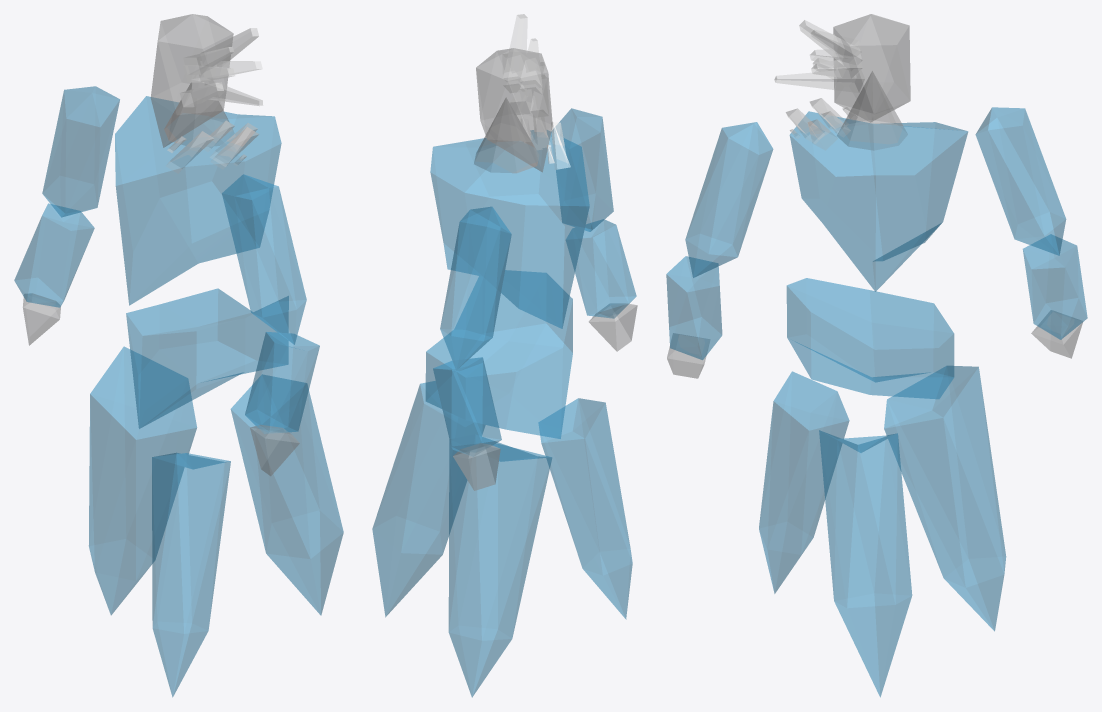
Rendered from ghostChargingLunge2.obj.
3 renders of one model, left to right at view 1: azimuth 30°, elevation 25°; view 2: azimuth 150°, elevation 25°; view 3: azimuth 270°, elevation 25°, orthographic. The views are drawn at different scales.
Visible parts, largest first — view 1: Cube.001_Cube.006, Icosphere.017, Icosphere.016, Cube_Cube.006, Icosphere.015, Icosphere.005_Icosphere.005, Icosphere.003_Icosphere.006, Icosphere.007_Icosphere.005, Icosphere.006_Icosphere.005, Icosphere.008_Icosphere.005, Cone_Cone.006, Cube.002_Cube.006 (+8 smaller); view 2: Cube.001_Cube.006, Cube_Cube.006, Icosphere.017, Icosphere.016, Icosphere.015, Icosphere.007_Icosphere.005, Icosphere.003_Icosphere.006, Icosphere.005_Icosphere.005, Icosphere.006_Icosphere.005, Icosphere.008_Icosphere.005, Cone_Cone.006, Cube.003_Cube.006 (+6 smaller); view 3: Cube.001_Cube.006, Icosphere.017, Icosphere.016, Cube_Cube.006, Icosphere.015, Icosphere.005_Icosphere.005, Icosphere.007_Icosphere.005, Icosphere.003_Icosphere.006, Icosphere.008_Icosphere.005, Icosphere.006_Icosphere.005, Cone_Cone.006, Cube.003_Cube.006 (+4 smaller).
Boxes of the visible parts, x1=… form: Cube.001_Cube.006: x1=115, y1=96, x2=281, y2=305; Icosphere.017: x1=89, y1=346, x2=196, y2=615; Icosphere.016: x1=230, y1=374, x2=343, y2=615; Cube_Cube.006: x1=126, y1=288, x2=288, y2=428; Icosphere.015: x1=152, y1=452, x2=230, y2=697; Icosphere.005_Icosphere.005: x1=222, y1=174, x2=306, y2=344; Icosphere.003_Icosphere.006: x1=150, y1=14, x2=233, y2=147; Icosphere.007_Icosphere.005: x1=42, y1=86, x2=119, y2=217; Icosphere.006_Icosphere.005: x1=245, y1=332, x2=319, y2=433; Icosphere.008_Icosphere.005: x1=14, y1=203, x2=94, y2=307; Cone_Cone.006: x1=164, y1=83, x2=234, y2=146; Cube.002_Cube.006: x1=250, y1=425, x2=299, y2=475; Cube.001_Cube.006: x1=430, y1=130, x2=589, y2=328; Cube_Cube.006: x1=425, y1=270, x2=572, y2=438; Icosphere.017: x1=448, y1=434, x2=551, y2=697; Icosphere.016: x1=372, y1=381, x2=484, y2=617; Icosphere.015: x1=539, y1=398, x2=632, y2=619; Icosphere.007_Icosphere.005: x1=440, y1=206, x2=511, y2=369; Icosphere.003_Icosphere.006: x1=476, y1=48, x2=552, y2=172; Icosphere.005_Icosphere.005: x1=551, y1=108, x2=613, y2=231; Icosphere.006_Icosphere.005: x1=566, y1=219, x2=636, y2=318; Icosphere.008_Icosphere.005: x1=433, y1=357, x2=501, y2=456; Cone_Cone.006: x1=474, y1=97, x2=537, y2=173; Cube.003_Cube.006: x1=453, y1=443, x2=500, y2=490; Cube.001_Cube.006: x1=789, y1=111, x2=967, y2=291; Icosphere.017: x1=884, y1=366, x2=1006, y2=631; Icosphere.016: x1=819, y1=430, x2=912, y2=697; Cube_Cube.006: x1=786, y1=278, x2=954, y2=399; Icosphere.015: x1=759, y1=371, x2=849, y2=593; Icosphere.005_Icosphere.005: x1=685, y1=122, x2=773, y2=277; Icosphere.007_Icosphere.005: x1=975, y1=107, x2=1066, y2=255; Icosphere.003_Icosphere.006: x1=833, y1=14, x2=910, y2=122; Icosphere.008_Icosphere.005: x1=1023, y1=234, x2=1087, y2=339; Icosphere.006_Icosphere.005: x1=666, y1=256, x2=722, y2=359; Cone_Cone.006: x1=837, y1=71, x2=907, y2=150; Cube.003_Cube.006: x1=1031, y1=310, x2=1082, y2=358.
Bounding box in the file's own units: 17.04 × 47.43 × 28.66.
